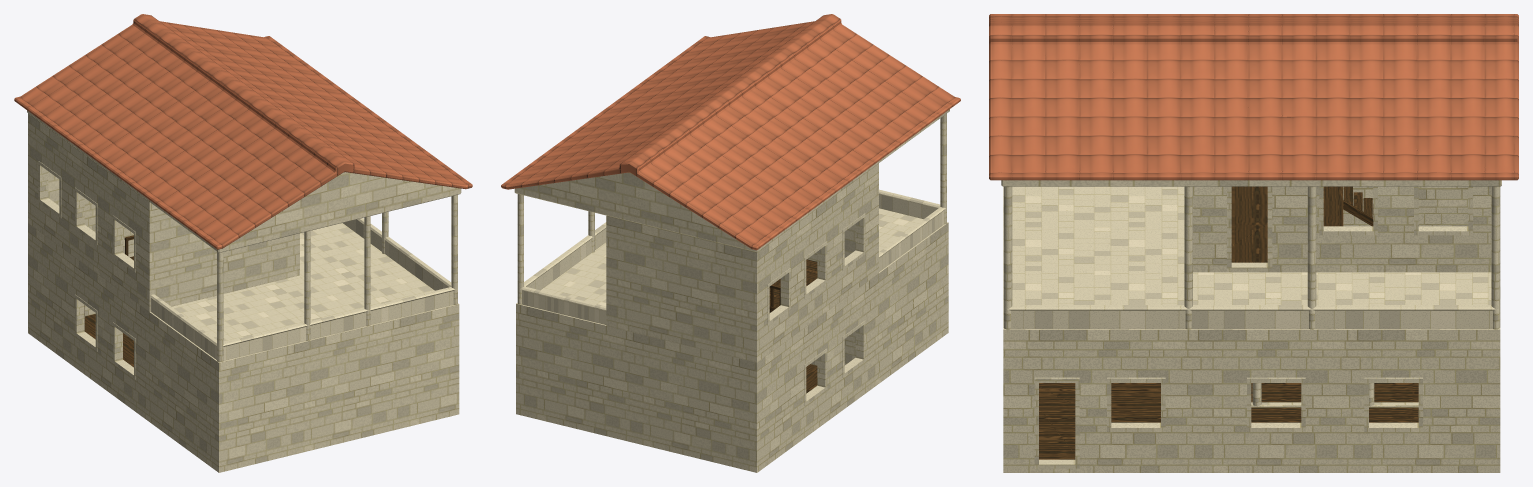
Rendered from house_with_terrace_2.gltf.
The picture shows the model from 3 angles, left to right: view 1: azimuth 30°, elevation 25°; view 2: azimuth 150°, elevation 25°; view 3: azimuth 270°, elevation 25°; orthographic projection. The views are drawn at different scales.
Parts seen in each view (by area): view 1: house_1.001; view 2: house_1.001; view 3: house_1.001.
Part boxes in pixels (x1,y1,x2,y2): house_1.001: (14,14,472,472); house_1.001: (501,14,960,472); house_1.001: (989,14,1518,472).
Size of the model in its own units: 8.52 by 9.06 by 11.73.
4 materials, 4 textured.
